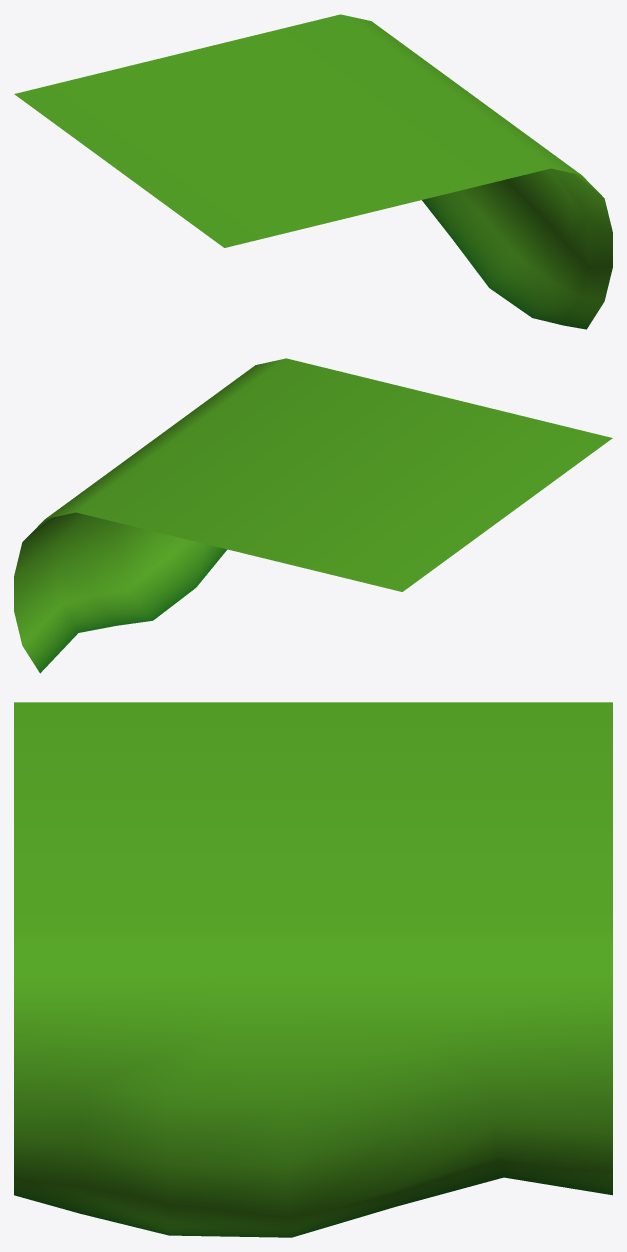
Rendered from Surface_SideUp01.fbx.
3 renders of one model, top to bottom at view 1: azimuth 30°, elevation 25°; view 2: azimuth 150°, elevation 25°; view 3: azimuth 270°, elevation 25°, orthographic. The views are drawn at different scales.
Visible parts, largest first — view 1: Surface_SideUp01; view 2: Surface_SideUp01; view 3: Surface_SideUp01.
Part boxes in pixels (x1=…): Surface_SideUp01: x1=14, y1=14, x2=612, y2=329; Surface_SideUp01: x1=14, y1=358, x2=612, y2=673; Surface_SideUp01: x1=14, y1=702, x2=612, y2=1237.
Size of the model in its own units: 2203 by 1046 by 2000.
